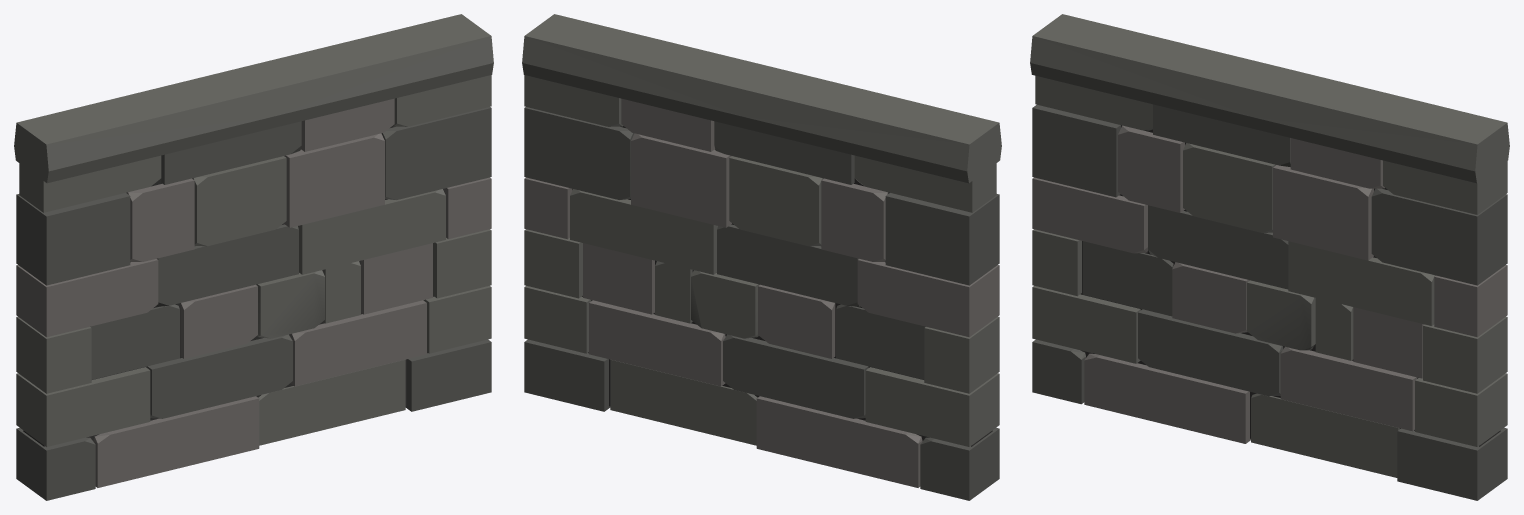
File: Wall03.fbx
The picture shows the model from 3 angles, left to right: view 1: azimuth 30°, elevation 25°; view 2: azimuth 150°, elevation 25°; view 3: azimuth 330°, elevation 25°; orthographic projection.
Parts seen in each view (by area): view 1: Wall03; view 2: Wall03; view 3: Wall03.
Part boxes in pixels (bbox=[...]): Wall03: bbox=[14, 14, 493, 500]; Wall03: bbox=[522, 14, 1001, 500]; Wall03: bbox=[1030, 14, 1509, 500].
Size of the model in its own units: 200 by 153 by 27.03.
